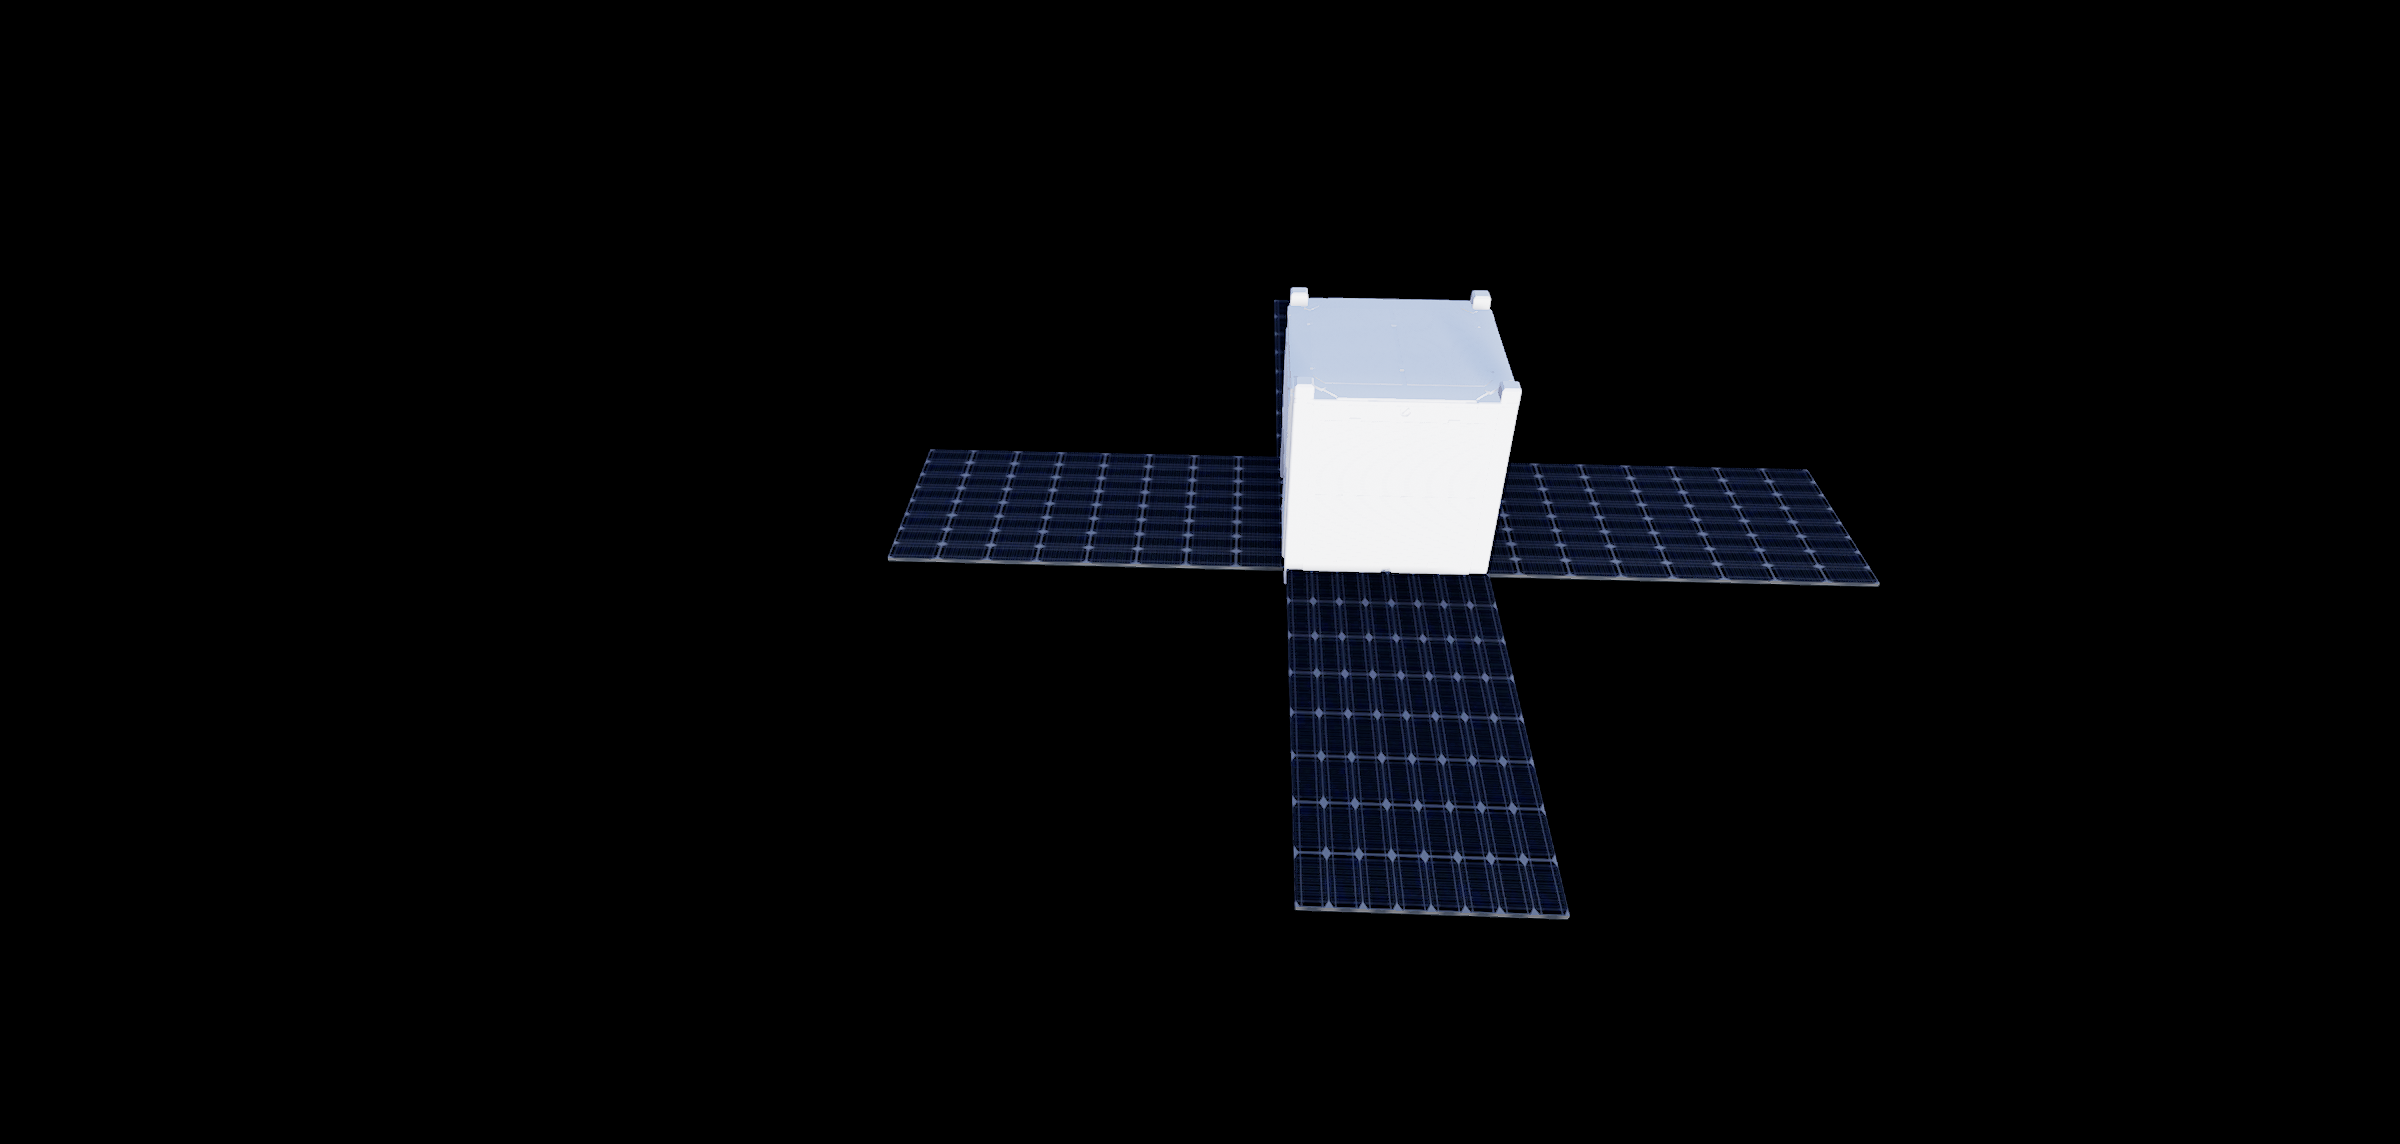satellite: (856, 257, 1916, 936)
